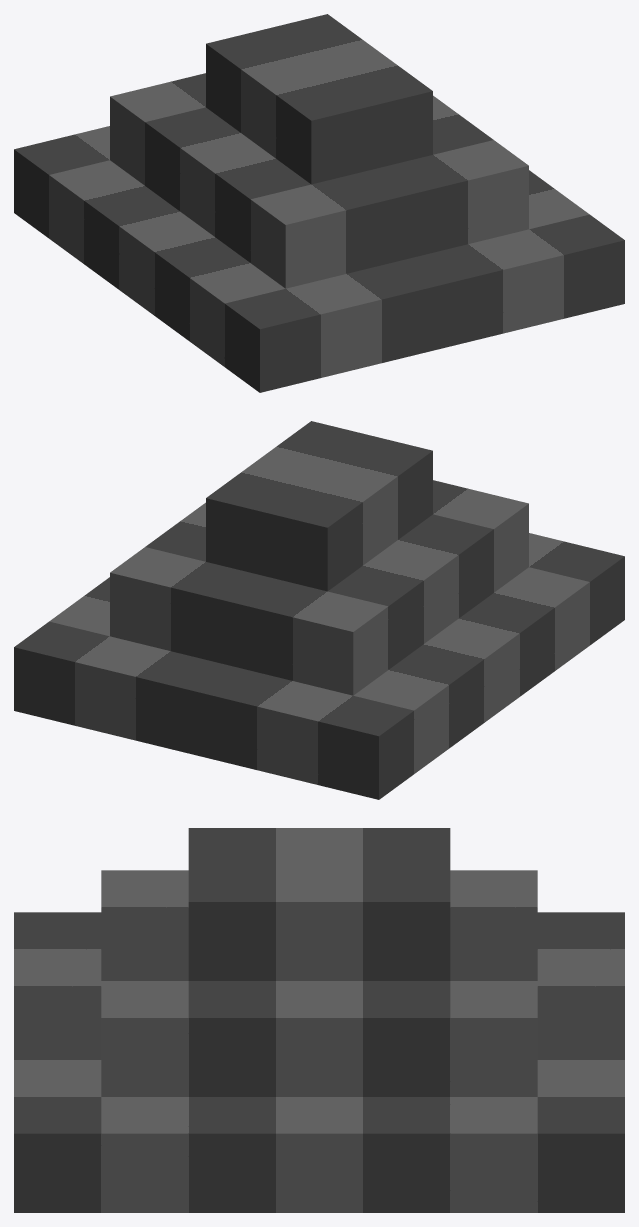
3 renders of one model, top to bottom at view 1: azimuth 30°, elevation 25°; view 2: azimuth 150°, elevation 25°; view 3: azimuth 270°, elevation 25°, orthographic. The views are drawn at different scales.
Parts seen in each view (by area): view 1: Matrix_4; view 2: Matrix_4; view 3: Matrix_4.
Part boxes in pixels (box(x1,y1,x2,y2)): Matrix_4: box(14, 14, 624, 392); Matrix_4: box(14, 421, 624, 799); Matrix_4: box(14, 828, 624, 1212).
Bounding box in the file's own units: 6 × 3 × 7.
1 material, 1 textured.
